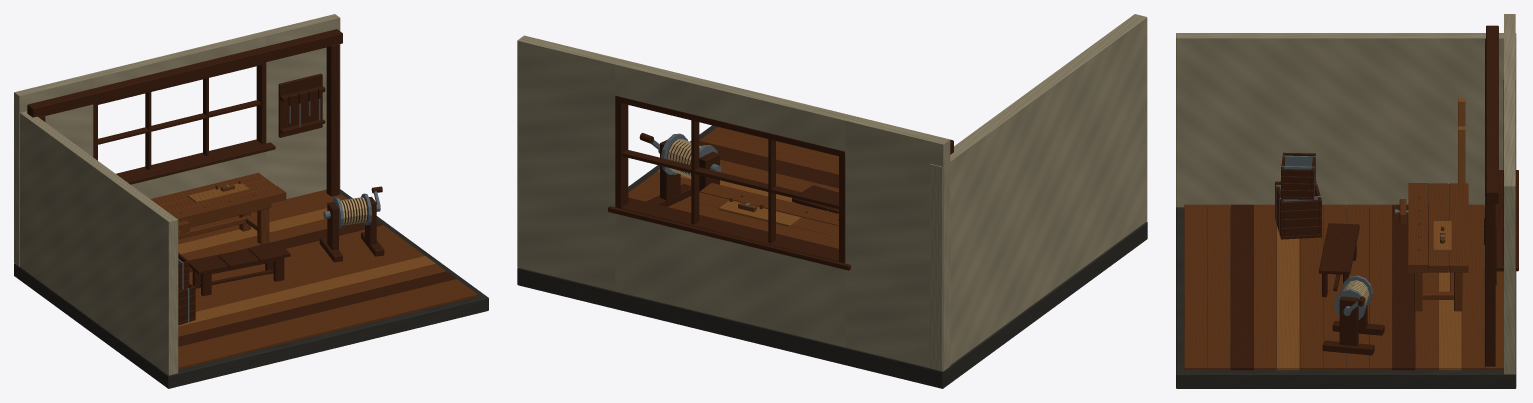
The picture shows the model from 3 angles, left to right: view 1: azimuth 30°, elevation 25°; view 2: azimuth 150°, elevation 25°; view 3: azimuth 270°, elevation 25°; orthographic projection. The views are drawn at different scales.
Visible parts, largest first — view 1: side__wall, floor__ground, rear, rear_beam__beam, floorboard_0__beam, rear__plaster_pier_-1, floorboard_1__beam, floorboard_2__beam, floorboard_3__beam, rear__plaster_header, floorboard_4__beam, rear__plaster_sill (+26 smaller); view 2: side__wall, rear, rear__plaster_pier_-1, rear__plaster_sill, floor__ground, rear__plaster_header, rear__projecting_sill, table, rear__window_crossbar, floorboard_1__beam, rear__window_rail_1.0979999999999999, floorboard_2__beam (+10 smaller); view 3: side__wall, floor__ground, floorboard_0__beam, floorboard_1__beam, floorboard_2__beam, floorboard_3__beam, table, floorboard_8__beam, floorboard_12__beam, floorboard_9__beam, floorboard_4__beam, floorboard_5__beam (+22 smaller).
Boxes of the visible parts, x1,y1,x2,y2 form: side__wall: (20, 111, 178, 375); floor__ground: (14, 189, 488, 388); rear: (256, 14, 340, 198); rear_beam__beam: (27, 29, 342, 117); floorboard_0__beam: (178, 286, 477, 369); rear__plaster_pier_-1: (14, 74, 93, 266); floorboard_1__beam: (178, 279, 466, 356); floorboard_2__beam: (178, 271, 456, 346); floorboard_3__beam: (178, 263, 445, 336); rear__plaster_header: (88, 32, 266, 88); floorboard_4__beam: (178, 256, 435, 326); rear__plaster_sill: (131, 152, 266, 198); side__wall: (930, 14, 1147, 370); rear: (517, 35, 628, 290); rear__plaster_pier_-1: (845, 115, 950, 371); rear__plaster_sill: (615, 214, 845, 347); floor__ground: (517, 125, 1147, 388); rear__plaster_header: (615, 59, 851, 154); rear__projecting_sill: (608, 197, 850, 270); table: (677, 192, 838, 248); rear__window_crossbar: (622, 149, 838, 209); floorboard_1__beam: (699, 130, 838, 174); rear__window_rail_1.0979999999999999: (619, 203, 839, 261); floorboard_2__beam: (699, 141, 838, 188); side__wall: (1176, 33, 1516, 207); floor__ground: (1176, 207, 1516, 388); floorboard_0__beam: (1184, 204, 1207, 370); floorboard_1__beam: (1207, 204, 1230, 370); floorboard_2__beam: (1230, 204, 1253, 370); floorboard_3__beam: (1253, 204, 1276, 370); table: (1422, 183, 1468, 311); floorboard_8__beam: (1369, 204, 1392, 370); floorboard_12__beam: (1462, 204, 1484, 370); floorboard_9__beam: (1392, 204, 1415, 370); floorboard_4__beam: (1277, 226, 1299, 370); floorboard_5__beam: (1300, 204, 1322, 370).
Bounding box in the file's own units: 6 × 3.29 × 5.04.
Materials: 7 (5 with a texture image).
